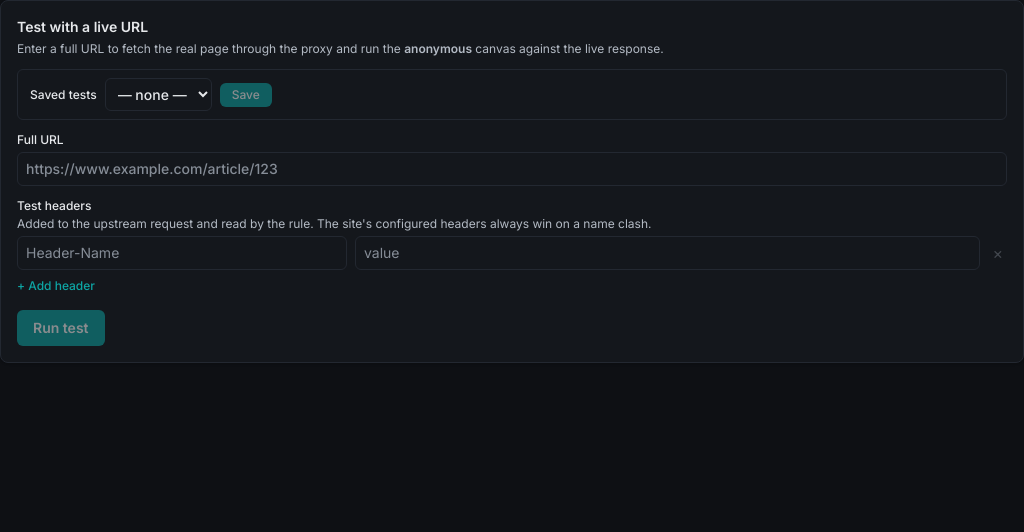
UrlTestPanel › surfaces the proxy's message when the host matches no site
The image size is (1024, 532).
Type "http://unknown.test/article/1" into the field labelled "Full URL" at (512, 169), box left=17, top=152, right=1007, bottom=186
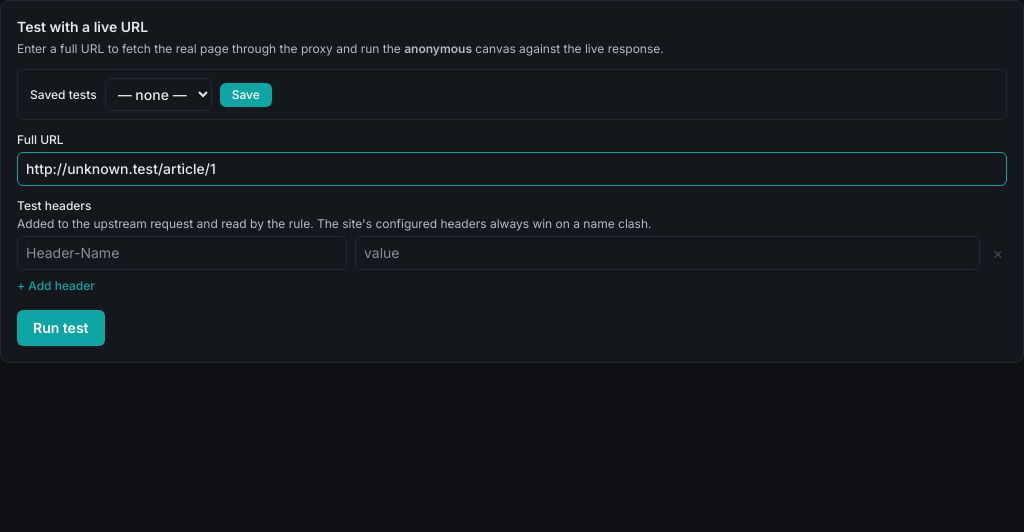
Click the button "Run test" at (61, 328), box left=17, top=310, right=104, bottom=346
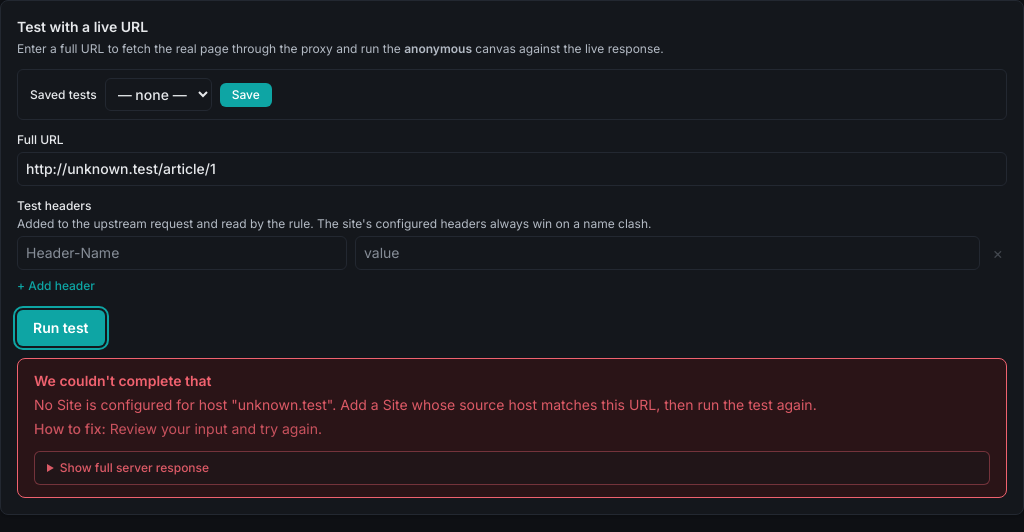
Expected: the text "No Site is configured" is shown, left=34, top=396, right=817, bottom=413
